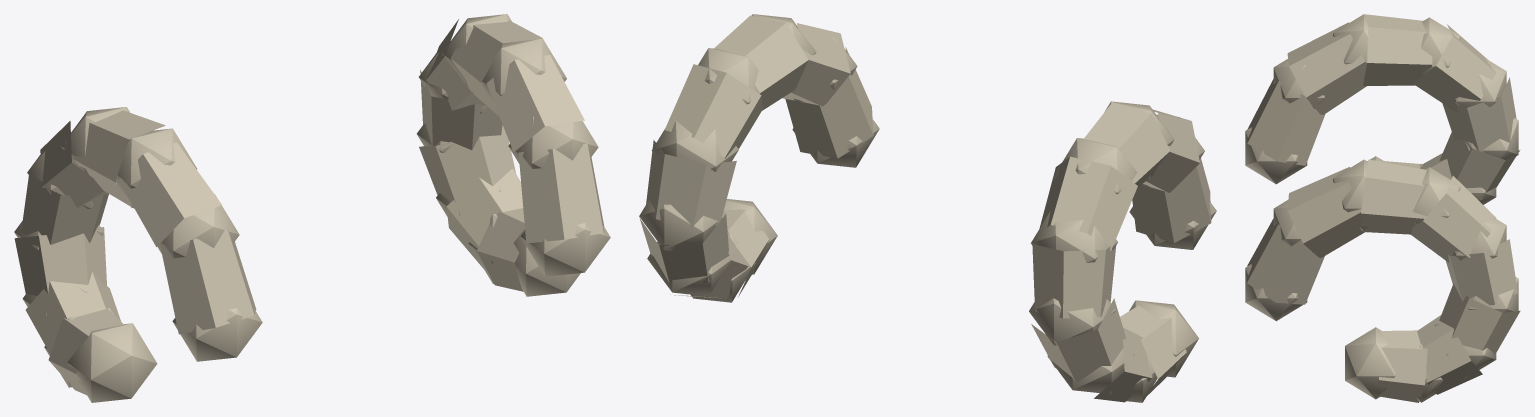
Rendered from sheep_horns.glb.
3 views of the same model, side by side, from view 1: azimuth 30°, elevation 25°; view 2: azimuth 150°, elevation 25°; view 3: azimuth 270°, elevation 25° (orthographic). The views are drawn at different scales.
Visible parts, largest first — view 1: sheep_horns; view 2: sheep_horns; view 3: sheep_horns.
Boxes of the visible parts, x1=… form: sheep_horns: x1=14, y1=14, x2=610, y2=402; sheep_horns: x1=639, y1=14, x2=1216, y2=402; sheep_horns: x1=1245, y1=14, x2=1520, y2=402.
Bounding box in the file's own units: 0.2317 × 0.1199 × 0.1361.
